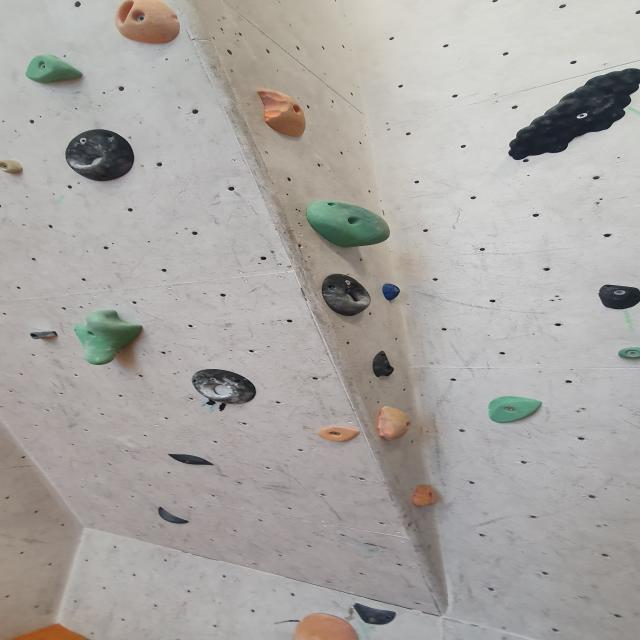Crimp: (485, 394, 545, 425), (316, 424, 363, 443), (409, 484, 440, 508), (0, 160, 27, 177)
Jug: (70, 307, 148, 366), (352, 603, 398, 629)
Pinch: (501, 65, 640, 166), (252, 88, 310, 140), (24, 52, 88, 86), (28, 330, 62, 340)
Pocket: (61, 132, 139, 184), (112, 1, 182, 48), (190, 370, 260, 406), (318, 274, 373, 317)
Sloper: (305, 199, 394, 248), (288, 612, 362, 640), (374, 404, 414, 442)
